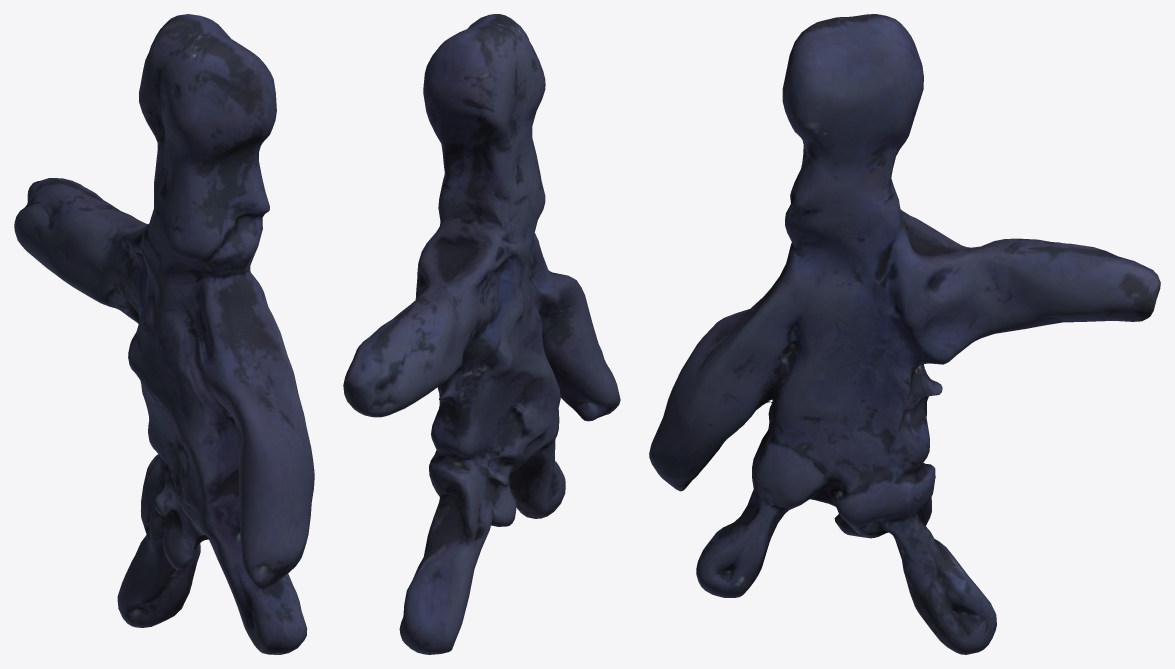
File: Felix_Character.glb
The picture shows the model from 3 angles, left to right: view 1: azimuth 30°, elevation 25°; view 2: azimuth 150°, elevation 25°; view 3: azimuth 270°, elevation 25°; orthographic projection. The views are drawn at different scales.
Parts seen in each view (by area): view 1: Felix_Character; view 2: Felix_Character; view 3: Felix_Character.
Boxes of the visible parts, bbox=[...] form: Felix_Character: bbox=[14, 14, 314, 654]; Felix_Character: bbox=[343, 14, 620, 654]; Felix_Character: bbox=[649, 14, 1160, 654].
Size of the model in its own units: 0.1565 by 0.9115 by 0.6716.
1 material, 1 textured.
